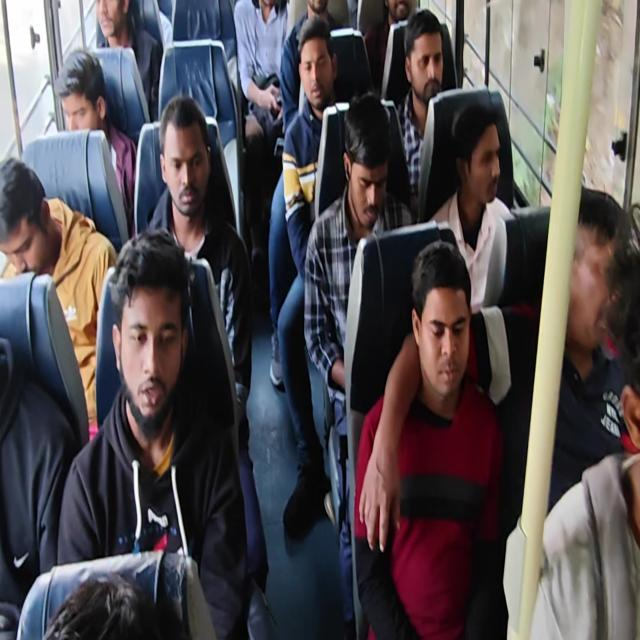person: (111, 228, 185, 435), (566, 188, 628, 356), (410, 236, 468, 394), (38, 564, 148, 640), (610, 196, 640, 460), (159, 90, 211, 226), (444, 96, 506, 210), (339, 94, 390, 228), (3, 153, 61, 268), (56, 47, 110, 138), (403, 10, 451, 100), (301, 16, 335, 108), (93, 1, 135, 47), (390, 2, 420, 22), (308, 1, 333, 17)
